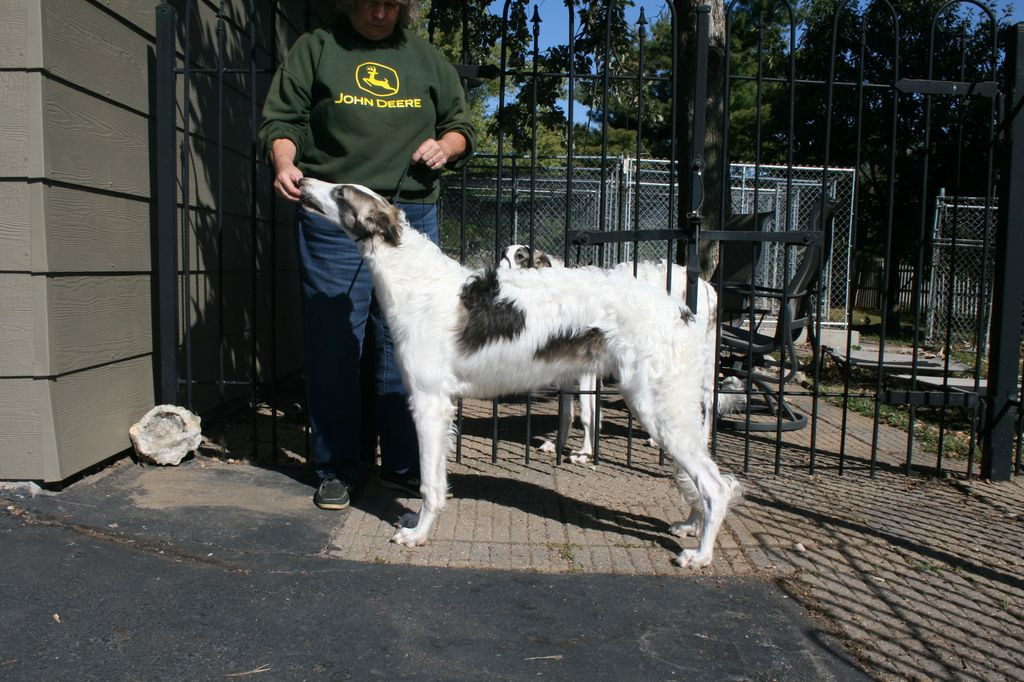borzoi: (291, 168, 753, 579)
